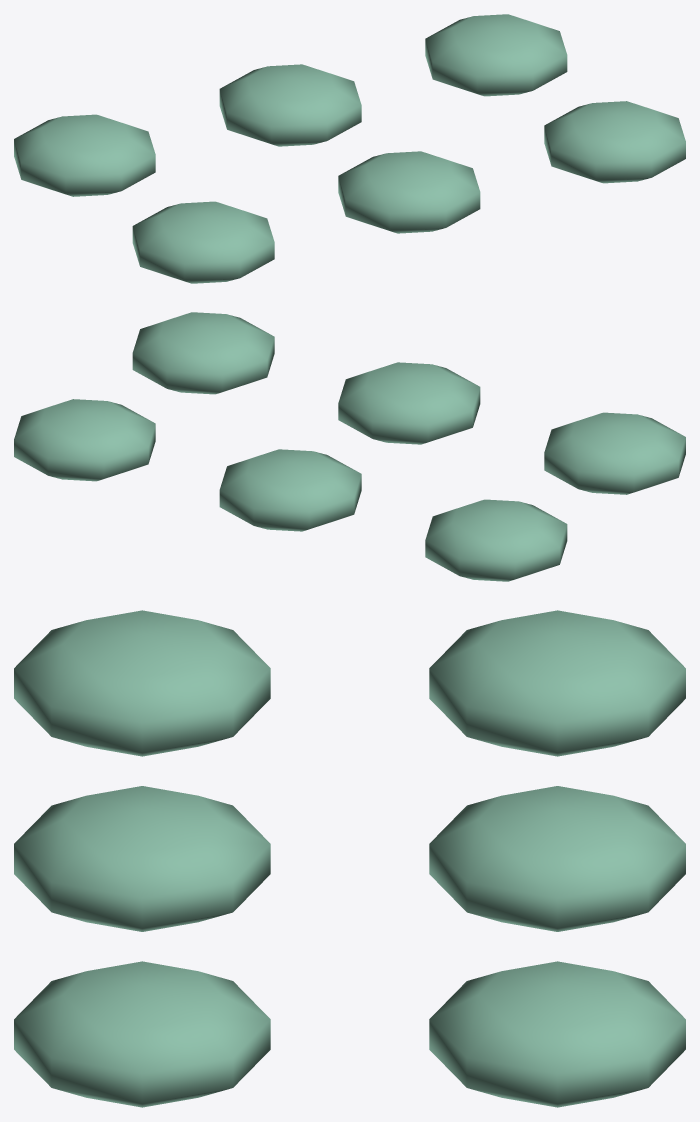
File: scales-hand.glb
The picture shows the model from 3 angles, top to bottom: view 1: azimuth 30°, elevation 25°; view 2: azimuth 150°, elevation 25°; view 3: azimuth 270°, elevation 25°; orthographic projection. The views are drawn at different scales.
Visible parts, largest first — view 1: Scale_0, Scale_5, Scale_2, Scale_3, Scale_1, Scale_4; view 2: Scale_1, Scale_4, Scale_2, Scale_3, Scale_0, Scale_5; view 3: Scale_0, Scale_1, Scale_4, Scale_5, Scale_2, Scale_3.
Part boxes in pixels (left/top/right/bottom): Scale_0: left=132, top=201, right=274, bottom=283; Scale_5: left=425, top=14, right=567, bottom=96; Scale_2: left=338, top=151, right=480, bottom=233; Scale_3: left=219, top=64, right=361, bottom=146; Scale_1: left=14, top=114, right=155, bottom=196; Scale_4: left=544, top=101, right=685, bottom=183; Scale_1: left=425, top=499, right=567, bottom=581; Scale_4: left=132, top=312, right=274, bottom=394; Scale_2: left=338, top=362, right=480, bottom=444; Scale_3: left=219, top=449, right=361, bottom=531; Scale_0: left=544, top=412, right=685, bottom=494; Scale_5: left=14, top=399, right=155, bottom=481; Scale_0: left=14, top=610, right=270, bottom=756; Scale_1: left=429, top=610, right=685, bottom=756; Scale_4: left=14, top=961, right=270, bottom=1107; Scale_5: left=429, top=961, right=685, bottom=1107; Scale_2: left=14, top=786, right=270, bottom=931; Scale_3: left=429, top=786, right=685, bottom=931.
Size of the model in its own units: 0.1047 by 0.0104 by 0.0647.
